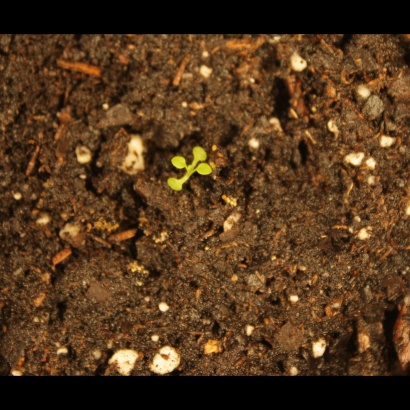leaf: (162, 173, 187, 197), (166, 149, 189, 172), (190, 141, 213, 164), (197, 164, 220, 187)
